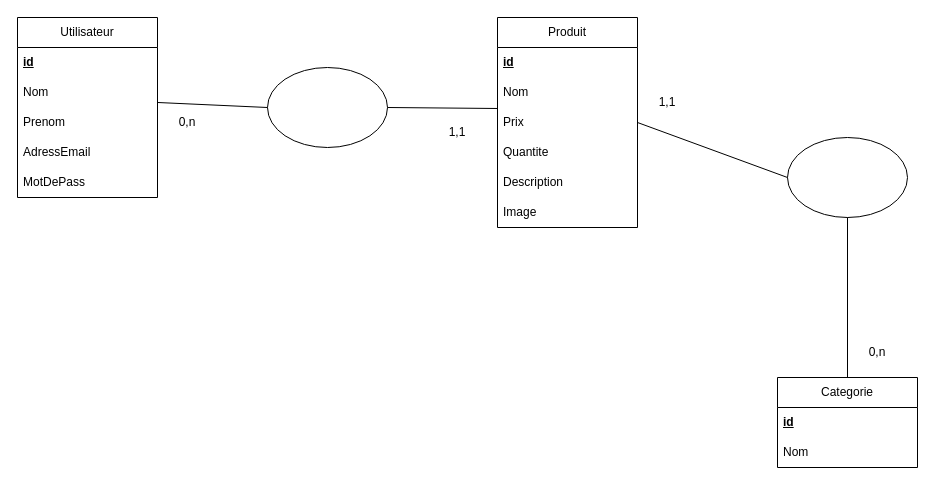
Image size: 935x485. Some labels were removed from this diagram. Each missing label, with the centre of its shape:
Contenir: pixel 847 177
Creer: pixel 327 107
